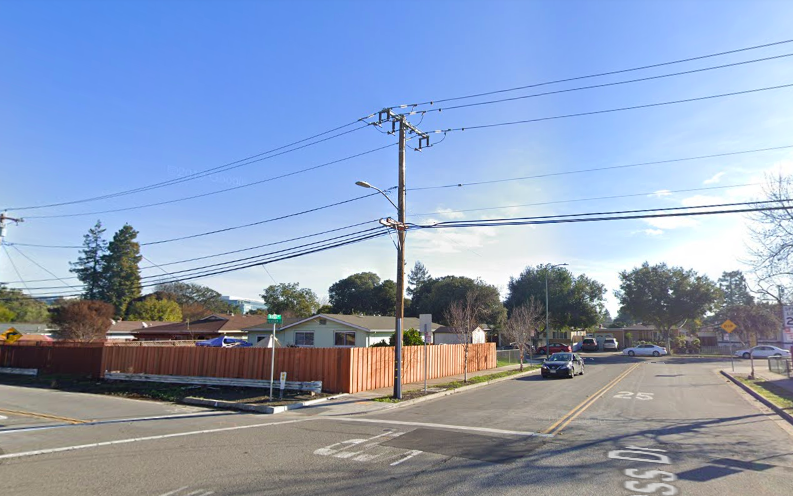utility_pole: (363, 89, 448, 178)
